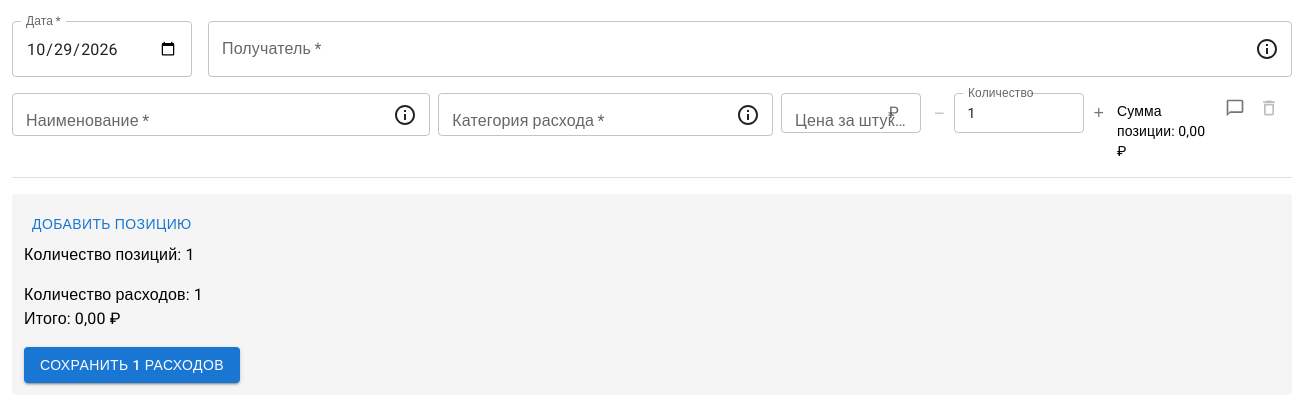
Test: AddExpenseForm bulk entry › keeps decrement at 1 and allows independent quantity controls
Check: the button named "Уменьшить количество позиции 1" is disabled, box [929, 98, 950, 129]
Click the button named "Увеличить количество позиции 1": x=1099, y=113 [1088, 98, 1109, 129]
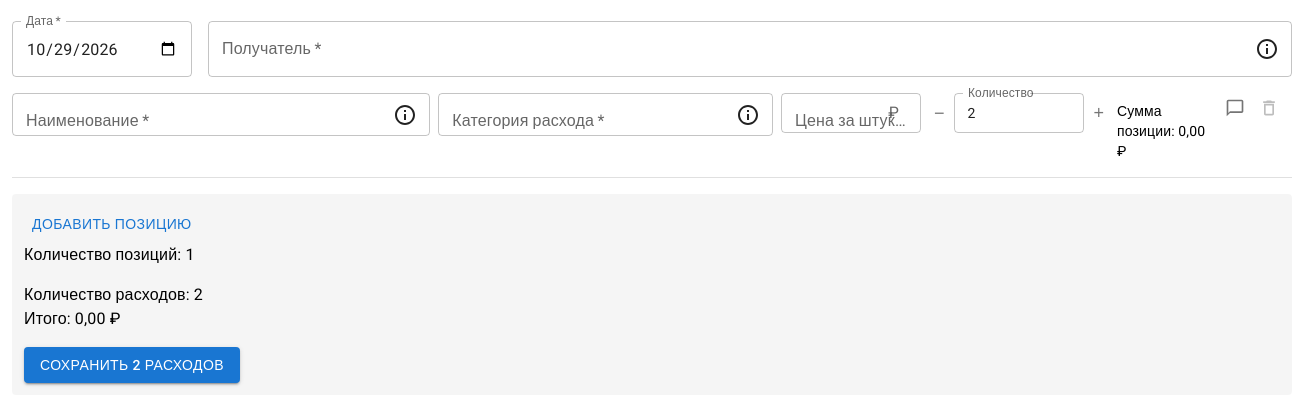
Check: the number field labelled "Количество" holds "2", box [954, 93, 1084, 133]
Click the button named "Уменьшить количество позиции 1": x=939, y=113 [929, 98, 950, 129]
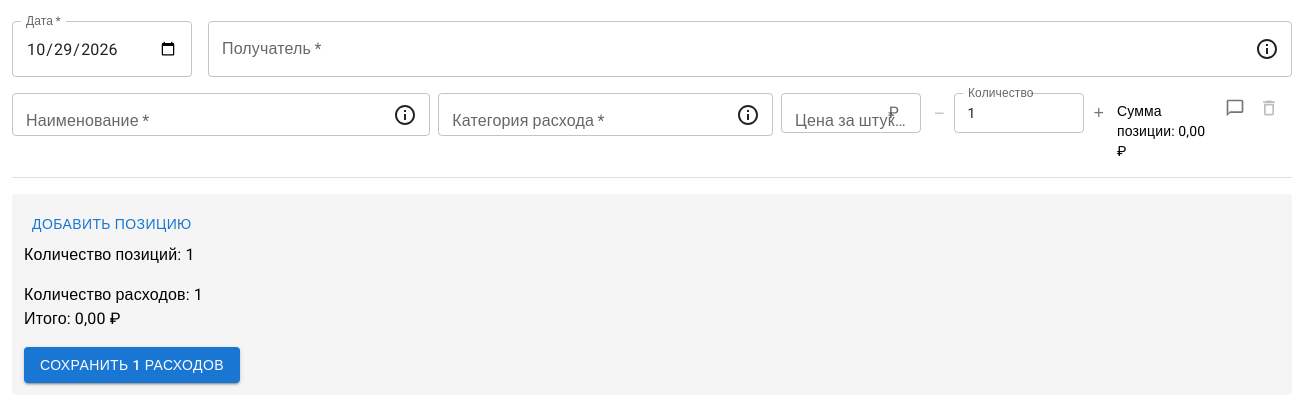
Check: the number field labelled "Количество" holds "1", box [954, 93, 1084, 133]
